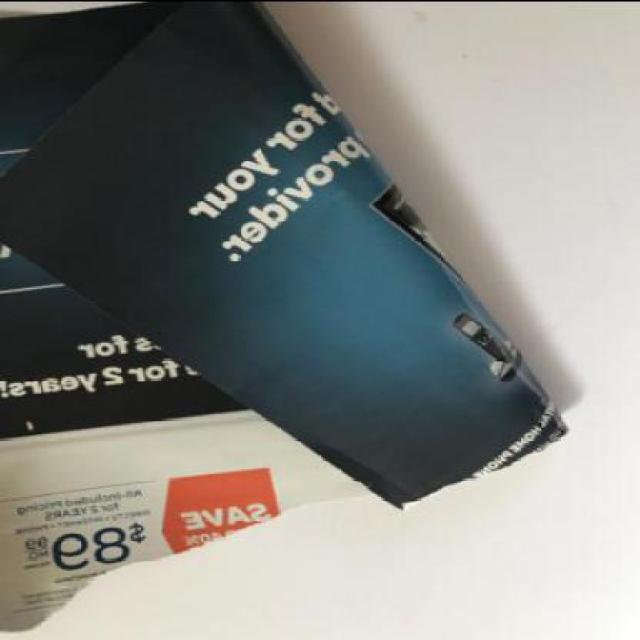PAPER: (2, 2, 572, 636)
